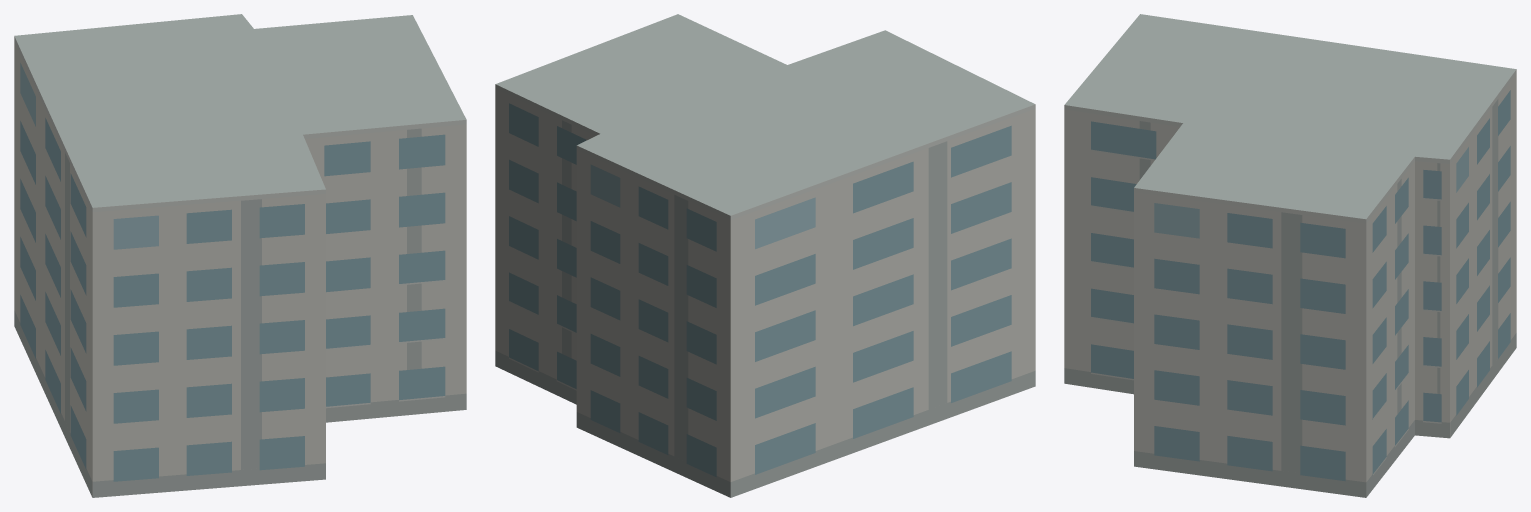
The model's file is survey-upis-32888276.glb.
3 views of the same model, side by side, from view 1: azimuth 30°, elevation 25°; view 2: azimuth 150°, elevation 25°; view 3: azimuth 270°, elevation 25° (orthographic). The views are drawn at different scales.
Parts seen in each view (by area): view 1: survey-upis-32888276.tmp; view 2: survey-upis-32888276.tmp; view 3: survey-upis-32888276.tmp.
Boxes of the visible parts, box(x1,y1,x2,y2) form: survey-upis-32888276.tmp: box(14, 14, 466, 497); survey-upis-32888276.tmp: box(495, 14, 1035, 497); survey-upis-32888276.tmp: box(1064, 14, 1516, 497).
Size of the model in its own units: 24.1 by 15.25 by 22.44.
